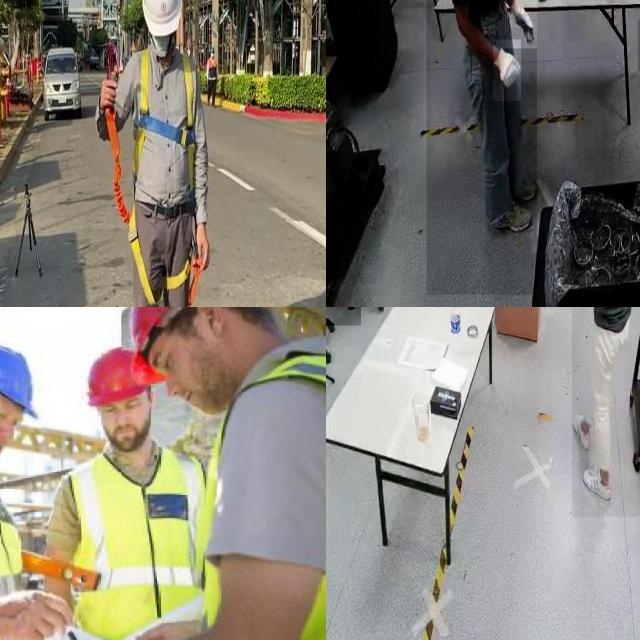Harness: (105, 110, 202, 306), (135, 49, 197, 196)
No_Ear-Protection: (197, 307, 234, 343)
No_Glasses: (99, 395, 147, 420), (0, 402, 23, 433)
face_nomask: (104, 410, 152, 451)
hand_glove: (493, 40, 521, 102), (504, 0, 537, 48)
hand_noglove: (0, 592, 71, 640), (135, 622, 200, 640)
head_helmet: (89, 349, 160, 406), (0, 348, 38, 417)
person: (426, 0, 537, 295), (572, 307, 640, 517)
shoes: (490, 196, 533, 235), (578, 462, 614, 501), (503, 163, 536, 201), (572, 404, 592, 454)
